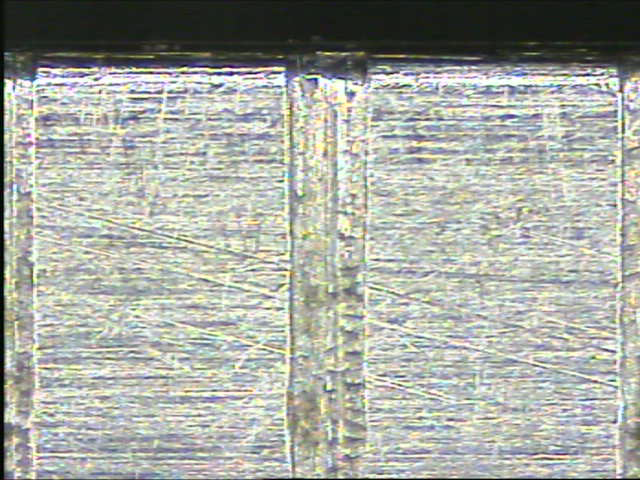line: (283, 48, 373, 466)
